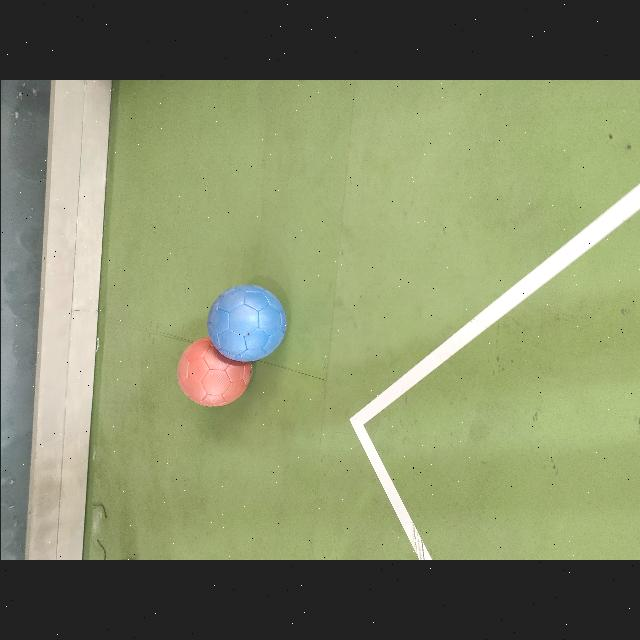B: (207, 284, 286, 362)
R: (177, 337, 251, 407)
